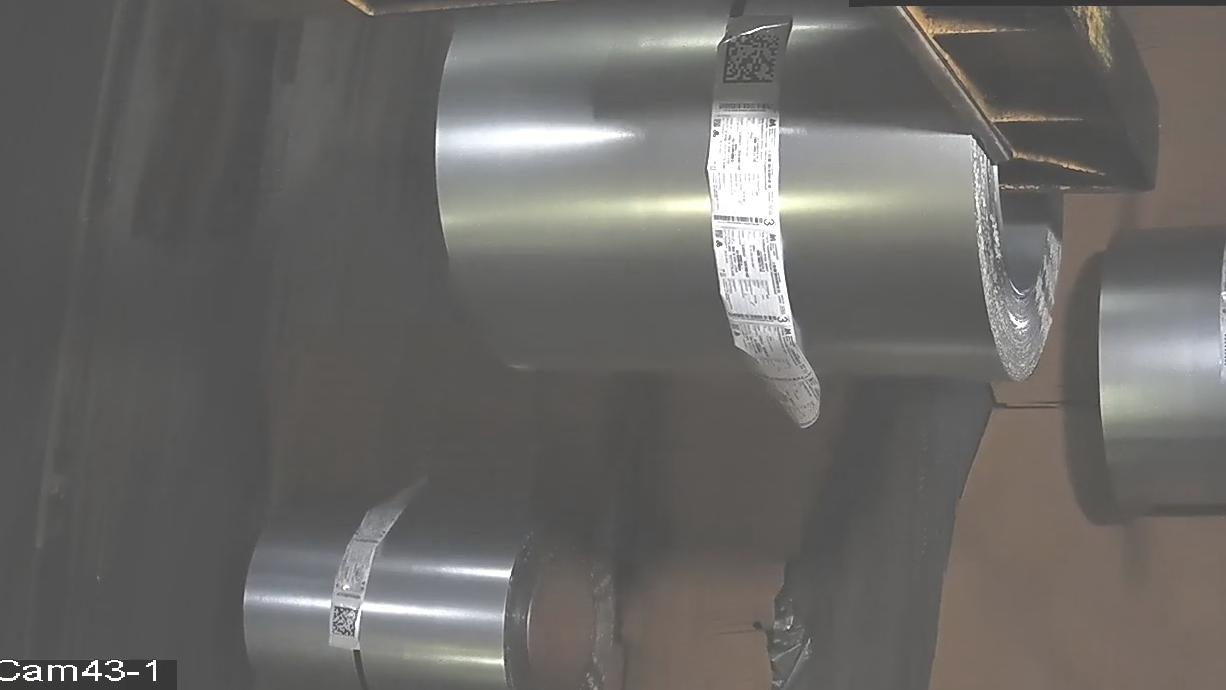data matrix: (720, 29, 783, 88), (330, 606, 362, 640)
